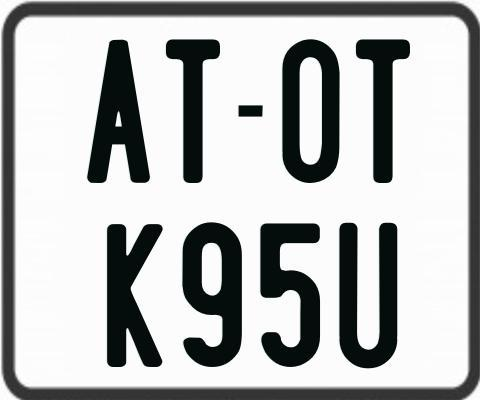0: (282, 38, 342, 185)
5: (260, 221, 322, 368)
9: (179, 222, 244, 367)
A: (85, 39, 150, 187)
K: (105, 222, 167, 370)
T: (166, 36, 224, 186), (354, 37, 410, 185)
U: (338, 221, 401, 367)
